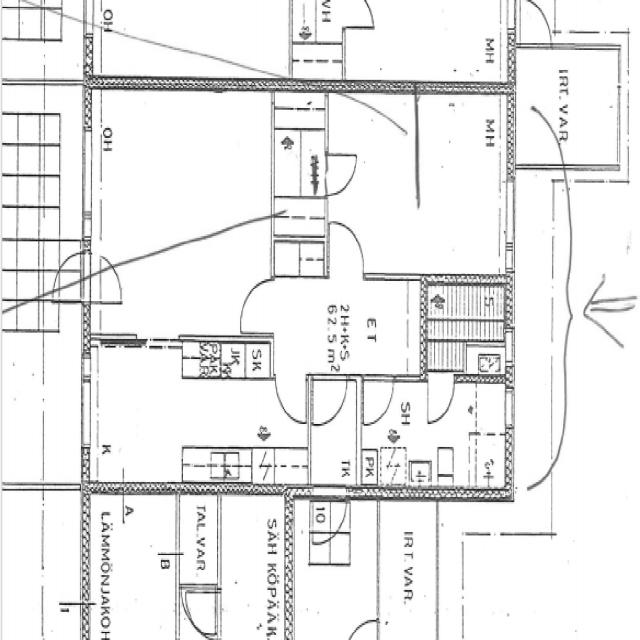door: (513, 48, 620, 172), (308, 374, 356, 485), (523, 105, 565, 171), (327, 215, 369, 275), (308, 373, 350, 428), (237, 274, 274, 336), (360, 374, 397, 431), (423, 371, 457, 428), (94, 254, 128, 310), (517, 0, 555, 50), (324, 148, 361, 198), (274, 374, 308, 427)
window: (499, 173, 519, 262), (78, 122, 95, 219), (78, 368, 96, 458), (502, 385, 517, 434)
zone: (93, 90, 274, 272), (83, 352, 306, 483), (353, 375, 511, 490), (413, 93, 508, 280), (326, 89, 420, 275), (0, 302, 86, 491), (276, 276, 422, 376), (515, 43, 621, 171), (90, 493, 178, 640), (290, 497, 380, 640), (218, 493, 287, 640), (378, 500, 438, 640), (425, 287, 507, 378), (272, 91, 326, 222), (308, 375, 358, 490), (177, 492, 221, 588), (290, 24, 344, 83), (304, 0, 376, 34), (181, 588, 220, 639)
